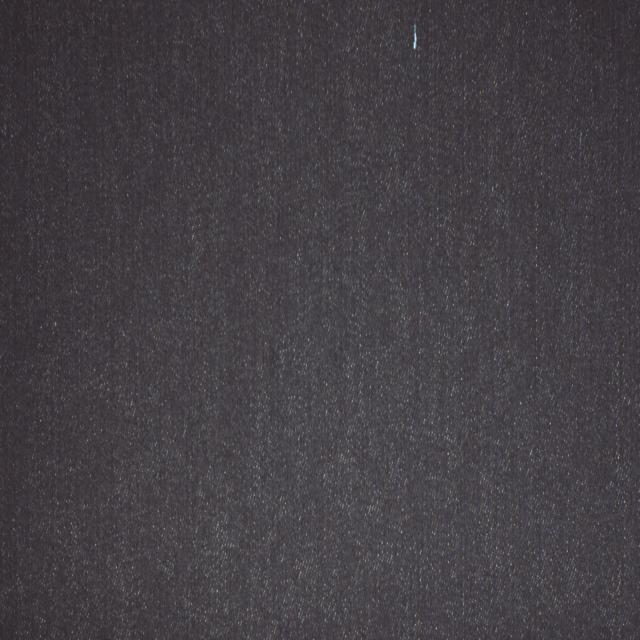Knot: (413, 21, 417, 48)
